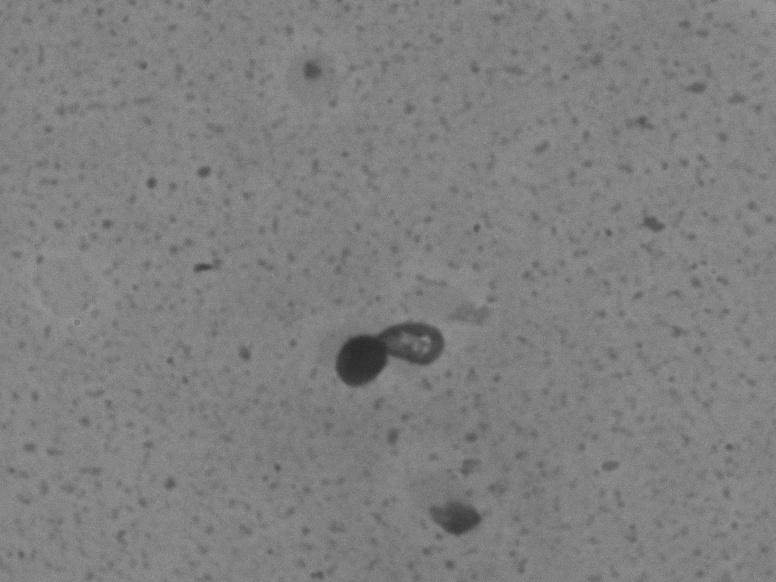Abnormal: (321, 283, 457, 451)
